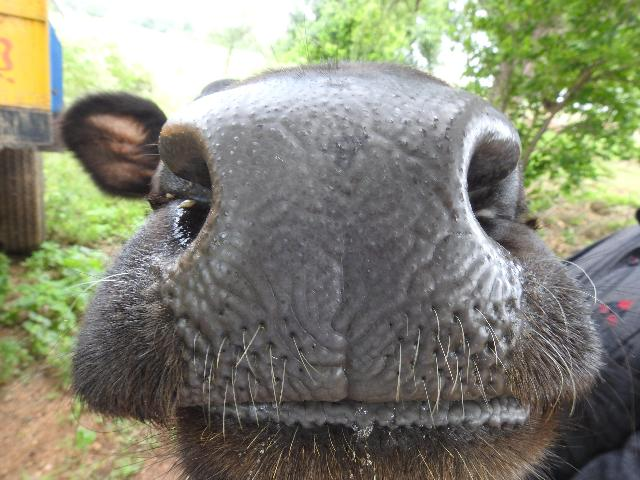Muzzle: (192, 104, 496, 403)
